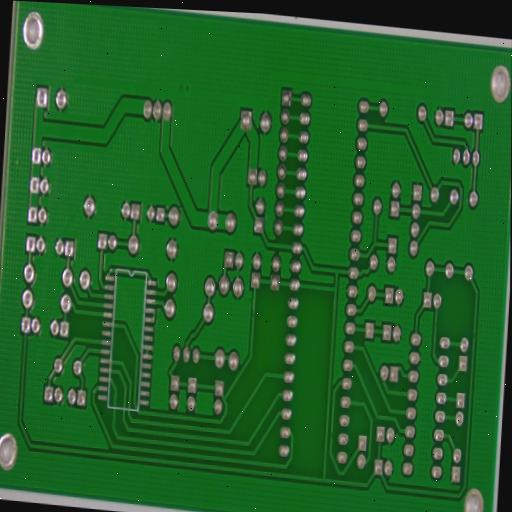mouse_bite: (251, 307, 257, 322), (329, 428, 334, 442), (433, 318, 438, 329)
